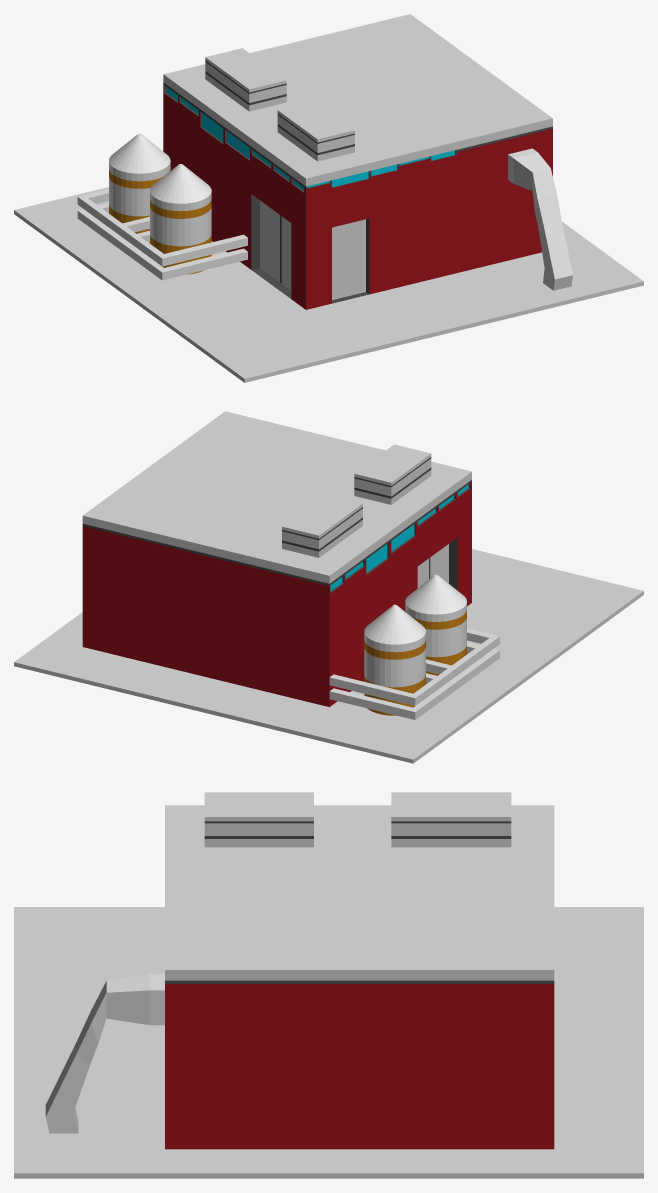
File: Zavod.fbx
3 views of the same model, one above another, from view 1: azimuth 30°, elevation 25°; view 2: azimuth 150°, elevation 25°; view 3: azimuth 270°, elevation 25° (orthographic). The views are drawn at different scales.
Parts seen in each view (by area): view 1: Cube, Cylinder.001, Cube.003, Cylinder, Cube.001, Cube.002; view 2: Cube, Cylinder, Cylinder.001, Cube.001, Cube.002; view 3: Cube, Cube.003.
Part boxes in pixels (x1,y1,x2,y2): Cube: [14, 14, 643, 382]; Cylinder.001: [150, 164, 211, 274]; Cube.003: [508, 148, 572, 290]; Cylinder: [109, 133, 170, 243]; Cube.001: [77, 189, 247, 266]; Cube.002: [77, 203, 247, 280]; Cube: [14, 411, 643, 763]; Cylinder: [364, 604, 425, 715]; Cylinder.001: [405, 574, 466, 675]; Cube.001: [329, 628, 499, 705]; Cube.002: [329, 642, 499, 719]; Cube: [14, 792, 643, 1178]; Cube.003: [45, 974, 164, 1133].
Size of the model in its own units: 262 by 99.12 by 262.
